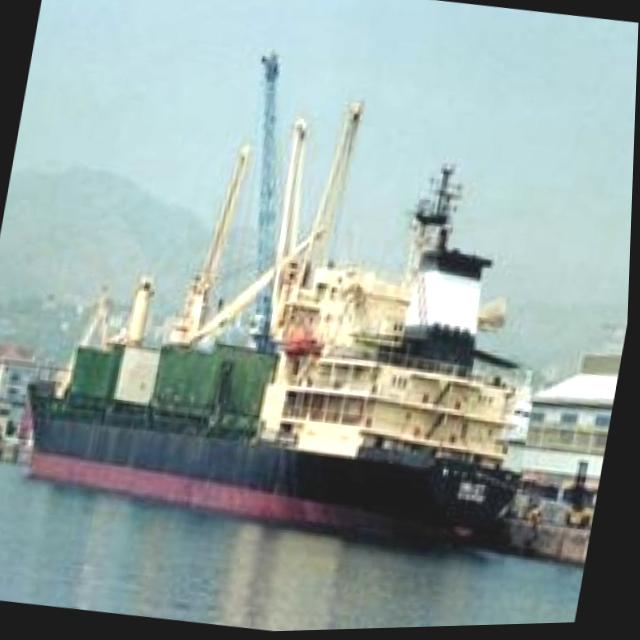ship2: (27, 106, 535, 551)
